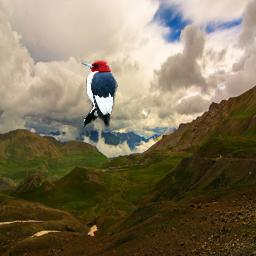Woodpecker: (81, 58, 118, 130)
